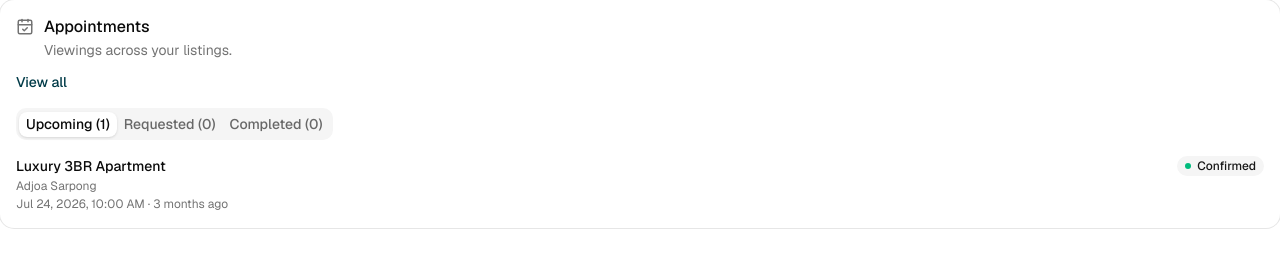
Test: AppointmentOverview › shows a per-tab empty state when a bucket is empty
Check: the element showing "Upcoming (1) Requested (0) Completed (0)" is shown, box [16, 108, 332, 140]
Click the tab "Completed (0)". click: [276, 124]
box: [222, 112, 330, 136]
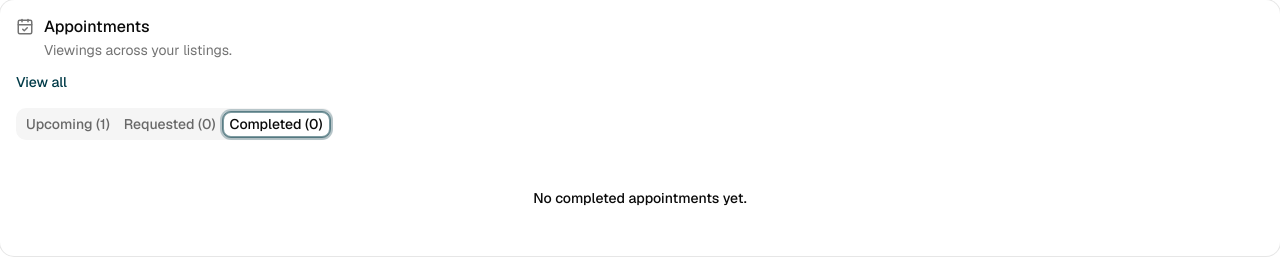
Check: the text "No completed appointments yet." is shown, box [533, 188, 747, 208]
